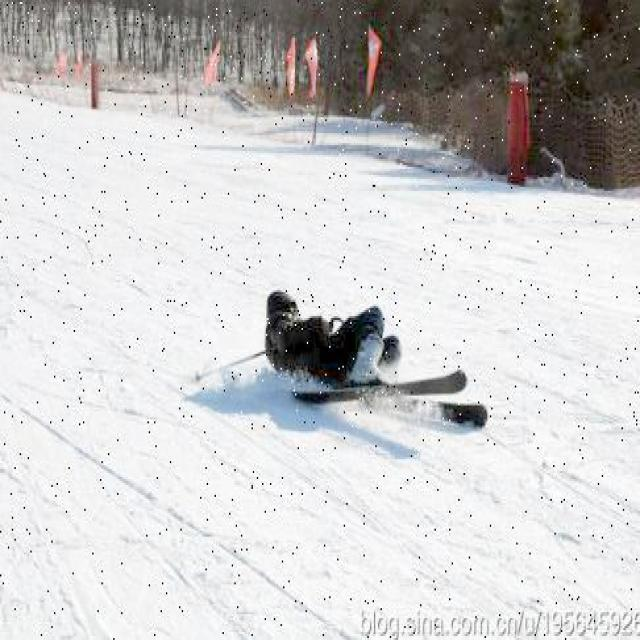fall: (254, 284, 408, 394)
